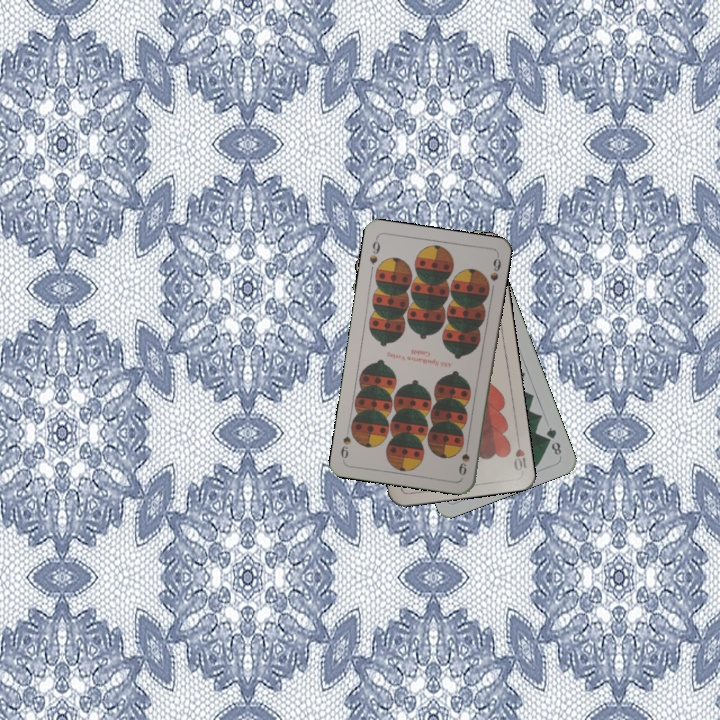G8: (542, 423, 564, 458)
H10: (510, 433, 529, 473)
S9: (454, 438, 472, 478), (365, 234, 383, 267)
